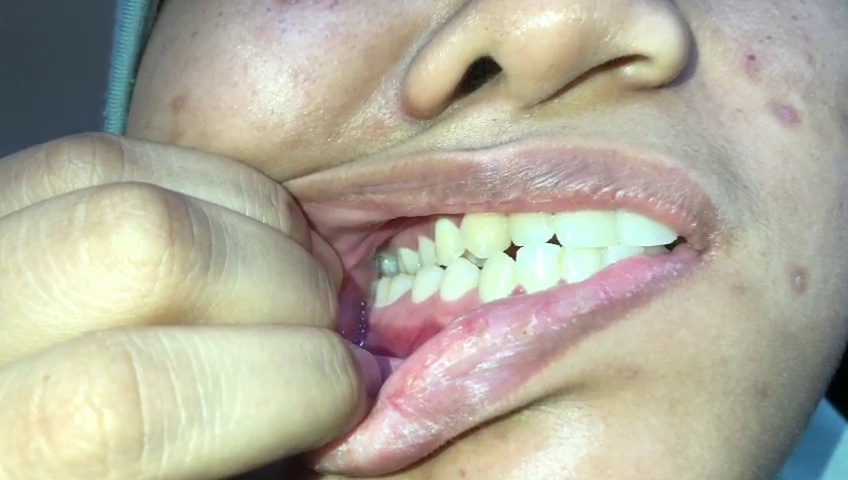1st Molar: (389, 274, 417, 310), (398, 246, 420, 273)
1st Premolar: (441, 258, 478, 304), (433, 219, 464, 267)
2nd Molar: (372, 273, 391, 308), (376, 252, 396, 274)
2nd Premolar: (412, 265, 444, 305), (417, 236, 438, 271)
Canine: (459, 204, 513, 258), (479, 252, 515, 305)
Lateral Incisor: (515, 242, 564, 297)
